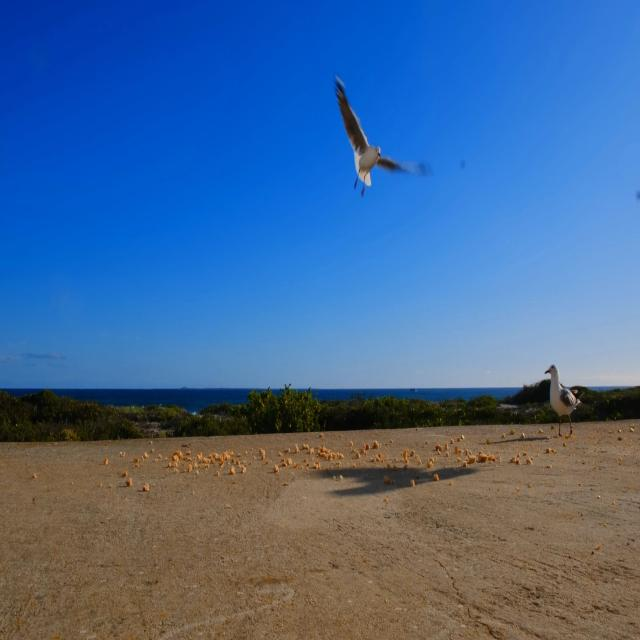bird: (328, 65, 412, 203), (539, 351, 589, 442)
